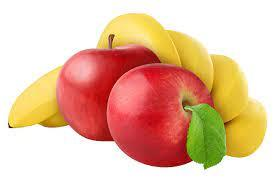Apple: (108, 63, 215, 168), (56, 45, 166, 142)
